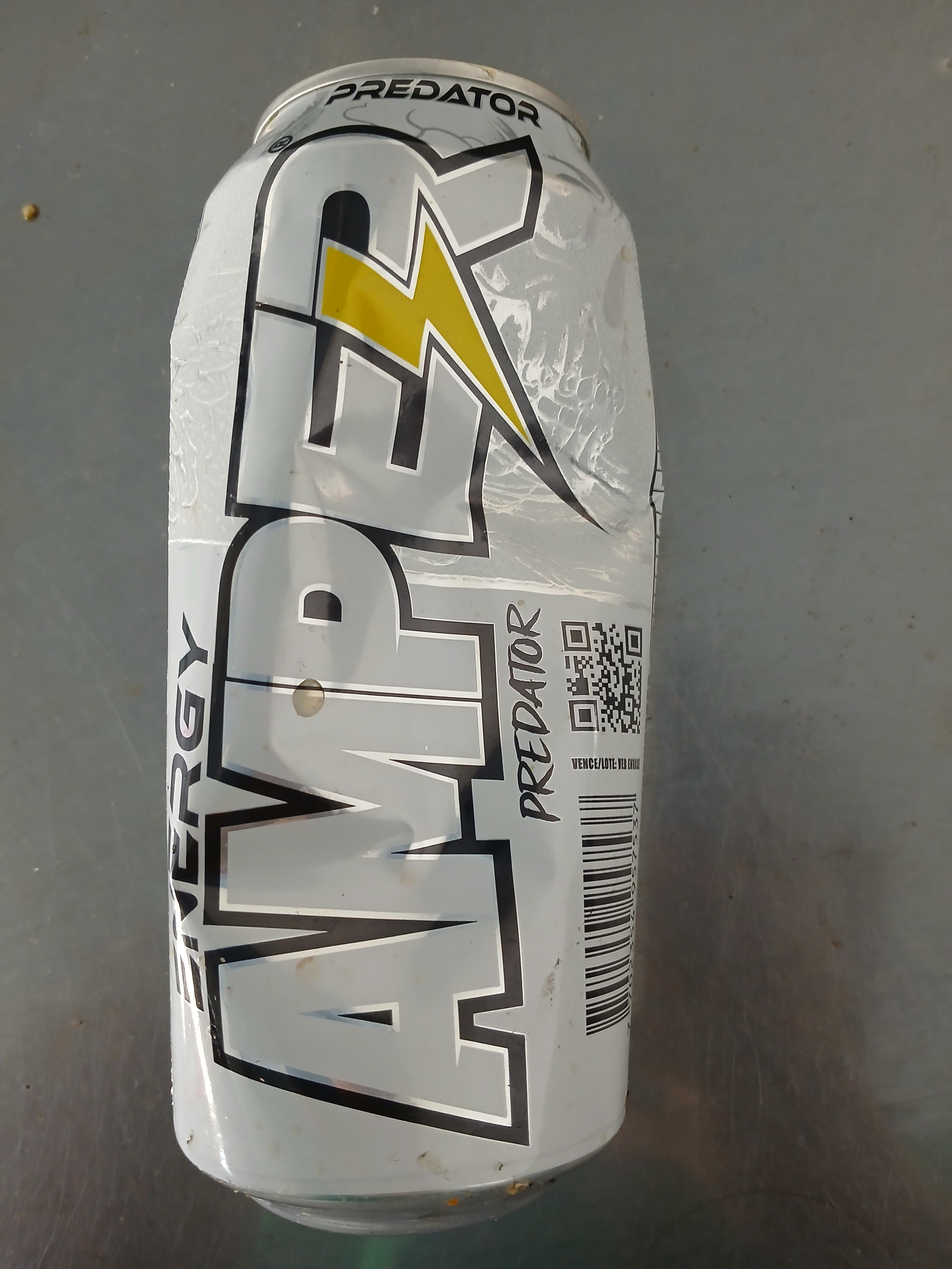Metal: (166, 57, 666, 1239)
